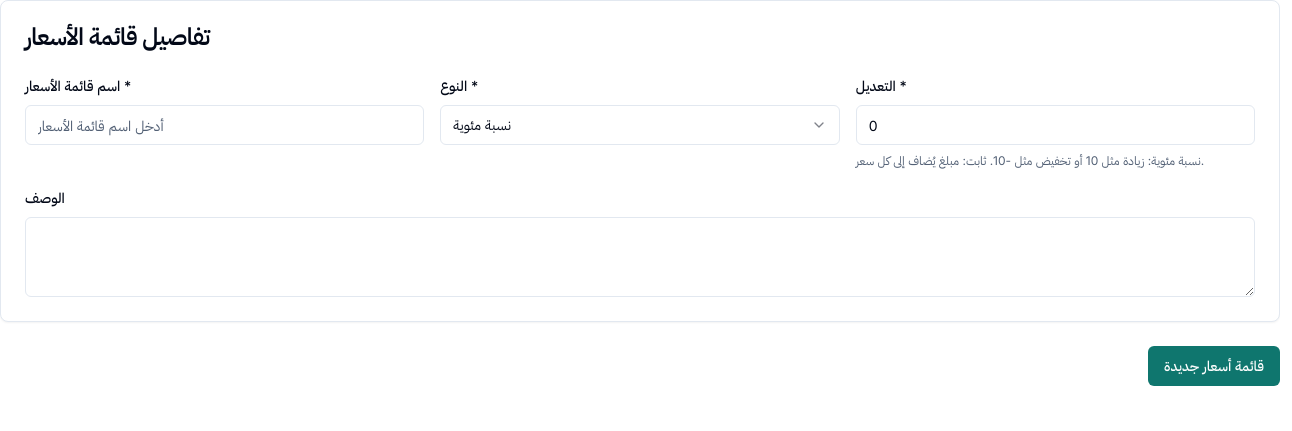
Test case: PriceListForm › refuses a malformed adjustment with an Arabic message
Type "x" into the field labelled "اسم قائمة الأسعار *" at coordinates (225, 125), box x1=25 y1=105 x2=424 y2=145
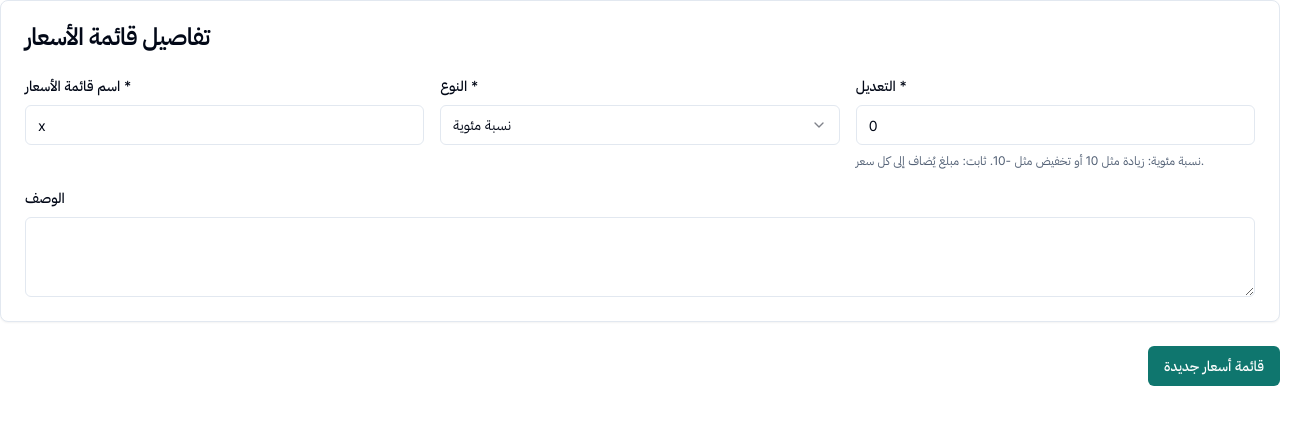
Replace the text in the field labelled "التعديل *" with "10%" at coordinates (1055, 125), box x1=856 y1=105 x2=1255 y2=145
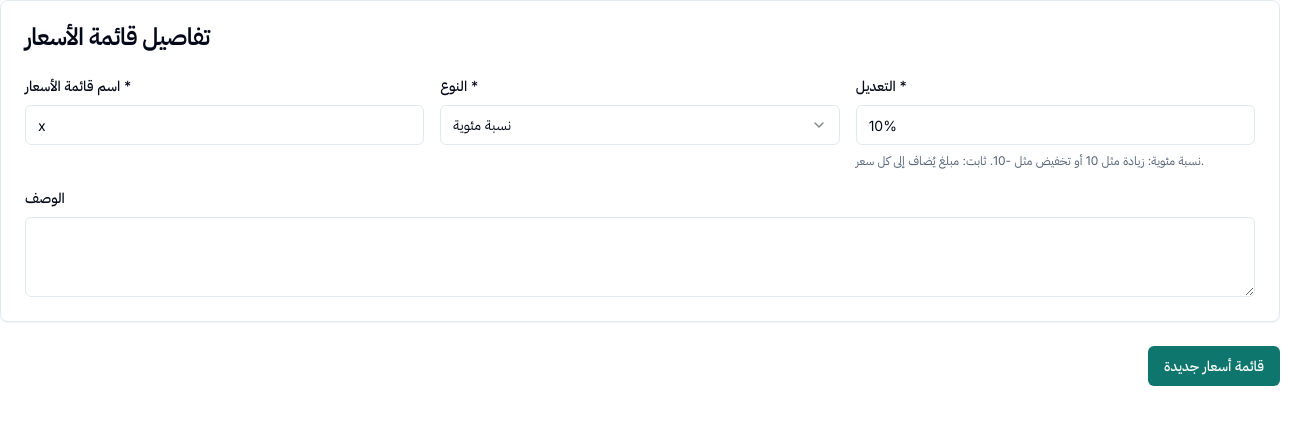
Click the button "قائمة أسعار جديدة" at coordinates (1214, 366), box x1=1148 y1=346 x2=1280 y2=386
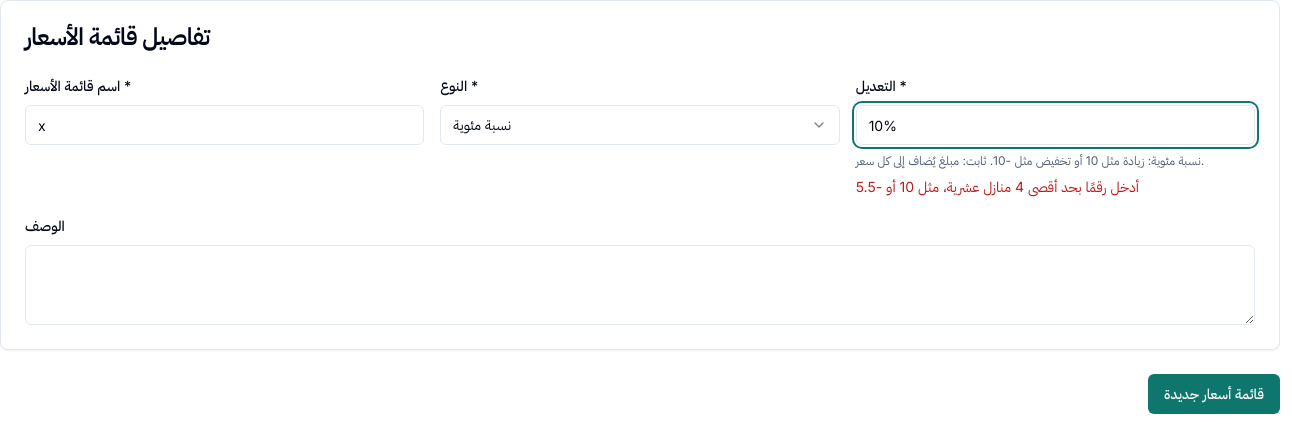
Expected: the text "أدخل رقمًا بحد أقصى 4 منازل عشرية، مثل 10 أو -5.5" is shown, x1=856 y1=178 x2=1139 y2=195
